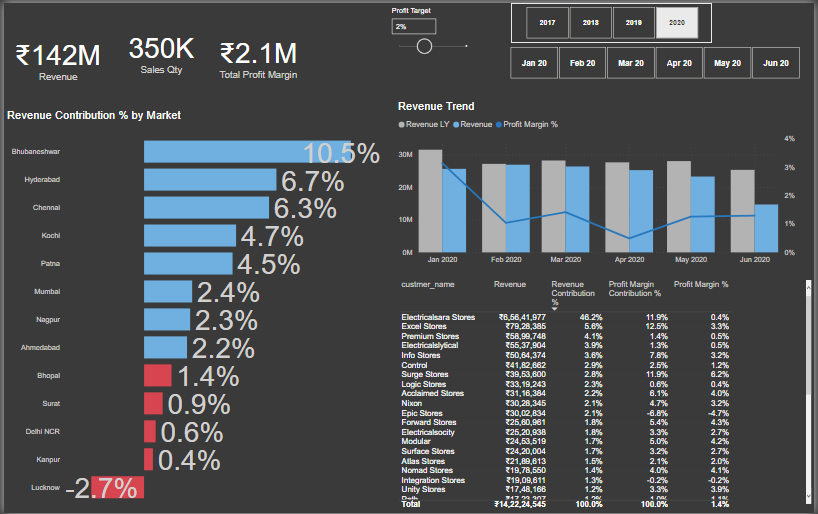

This screenshot's page, from the dashboard's own definition file:
{"tool":"powerbi","page":{"name":"Profit Analysis","canvas":[1350,850],"ordinal":1},"visuals":[{"type":"card","fields":{"Values":["BaseMeasures (2).Revenue"]},"box":[0,0,179.6,184.8],"z":0},{"type":"card","fields":{"Values":["BaseMeasures (2).Sales Qty"]},"box":[179.6,0,164.1,193],"z":1000},{"type":"barChart","title":"Profit % by market","fields":{"Y":["BaseMeasures (2).Profit Margin %"],"Category":["sales markets.markets_name"]},"box":[464.5,184.8,230.2,664.8],"z":2000},{"type":"barChart","title":"Profit Contribution % by Market","fields":{"Y":["BaseMeasures (2).Profit Margin Contribution %"],"Category":["sales markets.markets_name"]},"box":[221.9,185.8,208.5,659.6],"z":3000},{"type":"slicer","fields":{"Values":["sales date.year"]},"box":[483.2,0,335.5,66.5],"z":4000},{"type":"slicer","fields":{"Values":["sales date.cy_date"]},"box":[818.6,0,531.7,66.5],"z":5000},{"type":"tableEx","title":"Top 5 Customers","fields":{"Values":["sales customers.custmer_name","BaseMeasures (2).Revenue","BaseMeasures (2).Revenue Contribution %","BaseMeasures (2).Profit Margin Contribution %","BaseMeasures (2).Profit Margin %"]},"box":[701.9,454.2,648.3,395.4],"z":6000},{"type":"lineChart","title":"Revenue Trend","fields":{"Y":["BaseMeasures (2).Revenue"],"Category":["sales date.cy_date"]},"box":[701.9,104.3,621.4,338.6],"z":7000},{"type":"card","fields":{"Values":["BaseMeasures (2).Total Profit Margin"]},"box":[349.9,0,161,176.5],"z":8000},{"type":"barChart","title":"Revenue Contribution % by Market","fields":{"Y":["BaseMeasures (2).Revenue Contribution %"],"Category":["sales markets.markets_name"]},"box":[0,185.8,219.9,654.5],"z":9000}]}

Visuals, with their boxes in screenshot pixels (x1, y1, x2, y2), scaled from the page's 1350x850 canvas onto the 818x514 screenshot:
card - BaseMeasures (2).Revenue: 0, 0, 109, 112
card - BaseMeasures (2).Sales Qty: 109, 0, 208, 117
"Profit % by market" barChart: 281, 112, 421, 513
"Profit Contribution % by Market" barChart: 134, 112, 261, 511
slicer - sales date.year: 293, 0, 496, 40
slicer - sales date.cy_date: 496, 0, 817, 40
"Top 5 Customers" tableEx: 425, 275, 817, 513
"Revenue Trend" lineChart: 425, 63, 802, 268
card - BaseMeasures (2).Total Profit Margin: 212, 0, 310, 107
"Revenue Contribution % by Market" barChart: 0, 112, 133, 508
